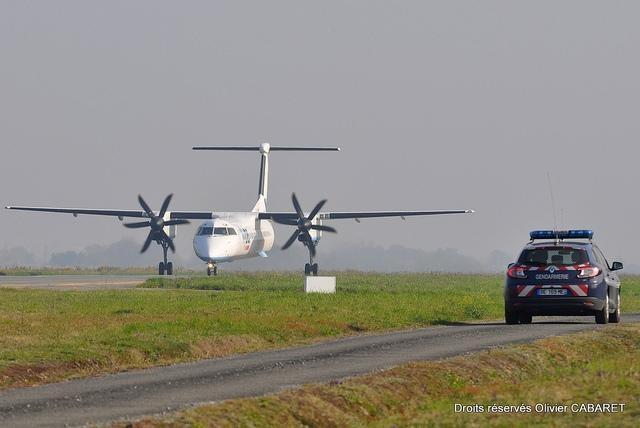car: (506, 230, 624, 325)
